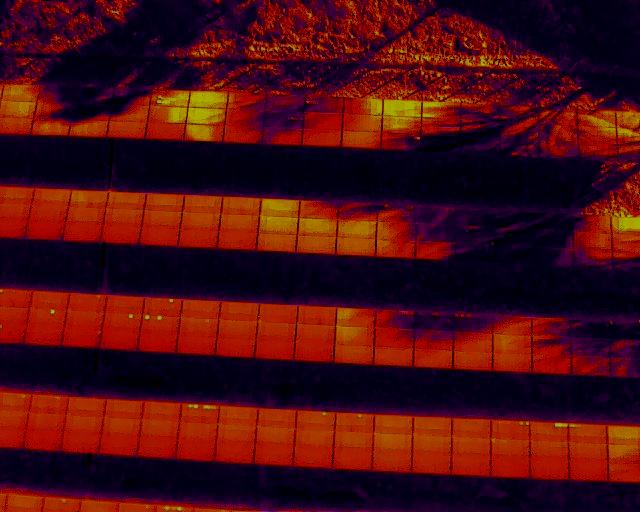Cell: (28, 308, 66, 329), (335, 414, 373, 433), (28, 395, 68, 413), (63, 329, 102, 347), (295, 412, 334, 430), (102, 312, 141, 329), (179, 318, 218, 335), (68, 293, 106, 310), (143, 297, 181, 314), (42, 498, 79, 511)
Cell-Multi: (180, 404, 218, 422), (141, 314, 179, 331), (491, 421, 528, 438), (150, 91, 188, 106)
No-Anomaly: (255, 338, 295, 360), (176, 440, 216, 461), (216, 337, 256, 357), (296, 234, 336, 254), (26, 220, 65, 240), (415, 349, 454, 369), (297, 306, 337, 325), (296, 324, 336, 343), (335, 327, 375, 346), (102, 330, 140, 350), (64, 222, 102, 242), (372, 453, 412, 472), (293, 449, 333, 468), (491, 439, 529, 459), (374, 347, 414, 366), (373, 416, 413, 435), (179, 229, 218, 248), (101, 225, 140, 244), (336, 308, 375, 327), (258, 232, 297, 251), (333, 451, 372, 470), (451, 457, 490, 476), (412, 455, 451, 474), (451, 419, 490, 438), (454, 351, 493, 370), (569, 462, 608, 481), (137, 439, 176, 458), (334, 345, 373, 364), (140, 332, 177, 352), (218, 231, 256, 250), (530, 441, 568, 460), (257, 322, 297, 340), (492, 336, 532, 354), (214, 446, 254, 464), (218, 409, 258, 427), (256, 411, 296, 429), (102, 420, 142, 438), (177, 422, 217, 440), (451, 439, 491, 457), (529, 460, 569, 478), (294, 344, 334, 362), (253, 447, 293, 465), (62, 417, 104, 434), (71, 118, 108, 137), (142, 211, 181, 229), (342, 130, 381, 148), (261, 199, 300, 217), (337, 238, 376, 256), (220, 303, 259, 321), (177, 336, 216, 354), (259, 216, 298, 234), (24, 432, 63, 450), (493, 354, 532, 372), (294, 430, 333, 448), (568, 444, 607, 462), (148, 106, 186, 124), (147, 122, 185, 140), (108, 192, 146, 210), (184, 195, 222, 213), (222, 196, 260, 214), (258, 305, 296, 323), (6, 493, 44, 511), (218, 320, 258, 337), (60, 435, 100, 452), (139, 421, 179, 438), (255, 429, 295, 446), (372, 435, 412, 452), (33, 117, 70, 135), (185, 124, 224, 141), (302, 129, 341, 146), (141, 228, 180, 245), (412, 437, 451, 454), (104, 401, 143, 418), (26, 415, 65, 432), (216, 428, 255, 445), (490, 460, 529, 477), (182, 212, 220, 229), (187, 108, 225, 125), (33, 188, 71, 205), (70, 190, 108, 207), (145, 193, 183, 210), (31, 291, 69, 308), (181, 301, 219, 318), (220, 214, 258, 231), (189, 91, 227, 108), (65, 399, 103, 416), (141, 403, 179, 420), (412, 420, 450, 437), (298, 218, 338, 234), (333, 433, 373, 449), (382, 117, 421, 133), (105, 296, 144, 312), (64, 312, 103, 328), (337, 220, 376, 236), (99, 438, 138, 454), (104, 210, 142, 226), (383, 100, 421, 116), (108, 122, 146, 138), (342, 114, 382, 129), (2, 85, 39, 101), (67, 207, 105, 222), (30, 205, 67, 220), (0, 101, 36, 116), (26, 329, 62, 343)
Shadowing: (537, 106, 578, 128), (533, 247, 573, 268), (454, 312, 493, 333), (576, 108, 616, 128), (415, 221, 455, 241), (572, 229, 612, 249), (572, 249, 612, 269), (376, 309, 416, 329), (533, 229, 573, 249), (376, 239, 414, 260), (416, 308, 454, 329), (300, 199, 338, 219), (571, 316, 611, 335), (532, 209, 572, 228), (456, 223, 494, 243), (381, 132, 420, 151), (338, 201, 377, 220), (532, 317, 571, 336), (572, 337, 611, 356), (572, 212, 611, 231), (532, 355, 571, 374), (536, 126, 577, 144), (265, 91, 305, 109), (415, 242, 455, 260), (375, 329, 415, 347), (571, 356, 611, 374), (39, 84, 79, 102), (495, 208, 532, 227), (71, 102, 110, 120), (461, 119, 500, 137), (454, 205, 493, 223), (492, 317, 531, 335), (532, 336, 571, 354), (576, 127, 617, 144), (109, 103, 147, 121), (225, 126, 263, 144), (263, 127, 301, 145), (377, 202, 415, 220), (415, 330, 453, 348), (264, 110, 304, 127), (578, 145, 618, 162), (495, 245, 532, 263), (226, 109, 265, 126), (415, 204, 454, 221), (376, 221, 415, 238), (228, 91, 266, 108), (456, 244, 494, 261), (454, 333, 492, 350), (303, 113, 343, 129), (461, 137, 501, 153), (495, 228, 532, 245), (462, 102, 501, 118), (421, 135, 460, 151), (304, 97, 344, 112), (422, 102, 462, 117), (422, 117, 462, 132), (344, 99, 383, 114), (36, 101, 72, 117), (110, 89, 151, 103), (80, 88, 110, 101)
Unclassified: (569, 424, 607, 443), (529, 423, 567, 441)
